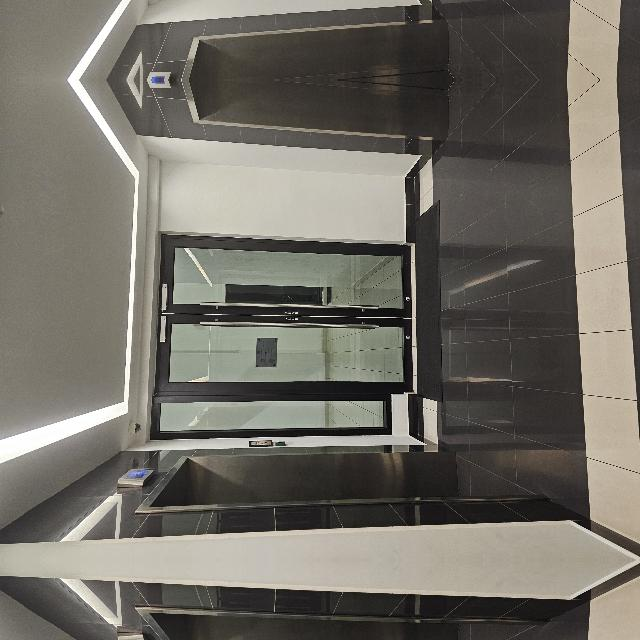door: (157, 229, 335, 503), (157, 617, 335, 640)
